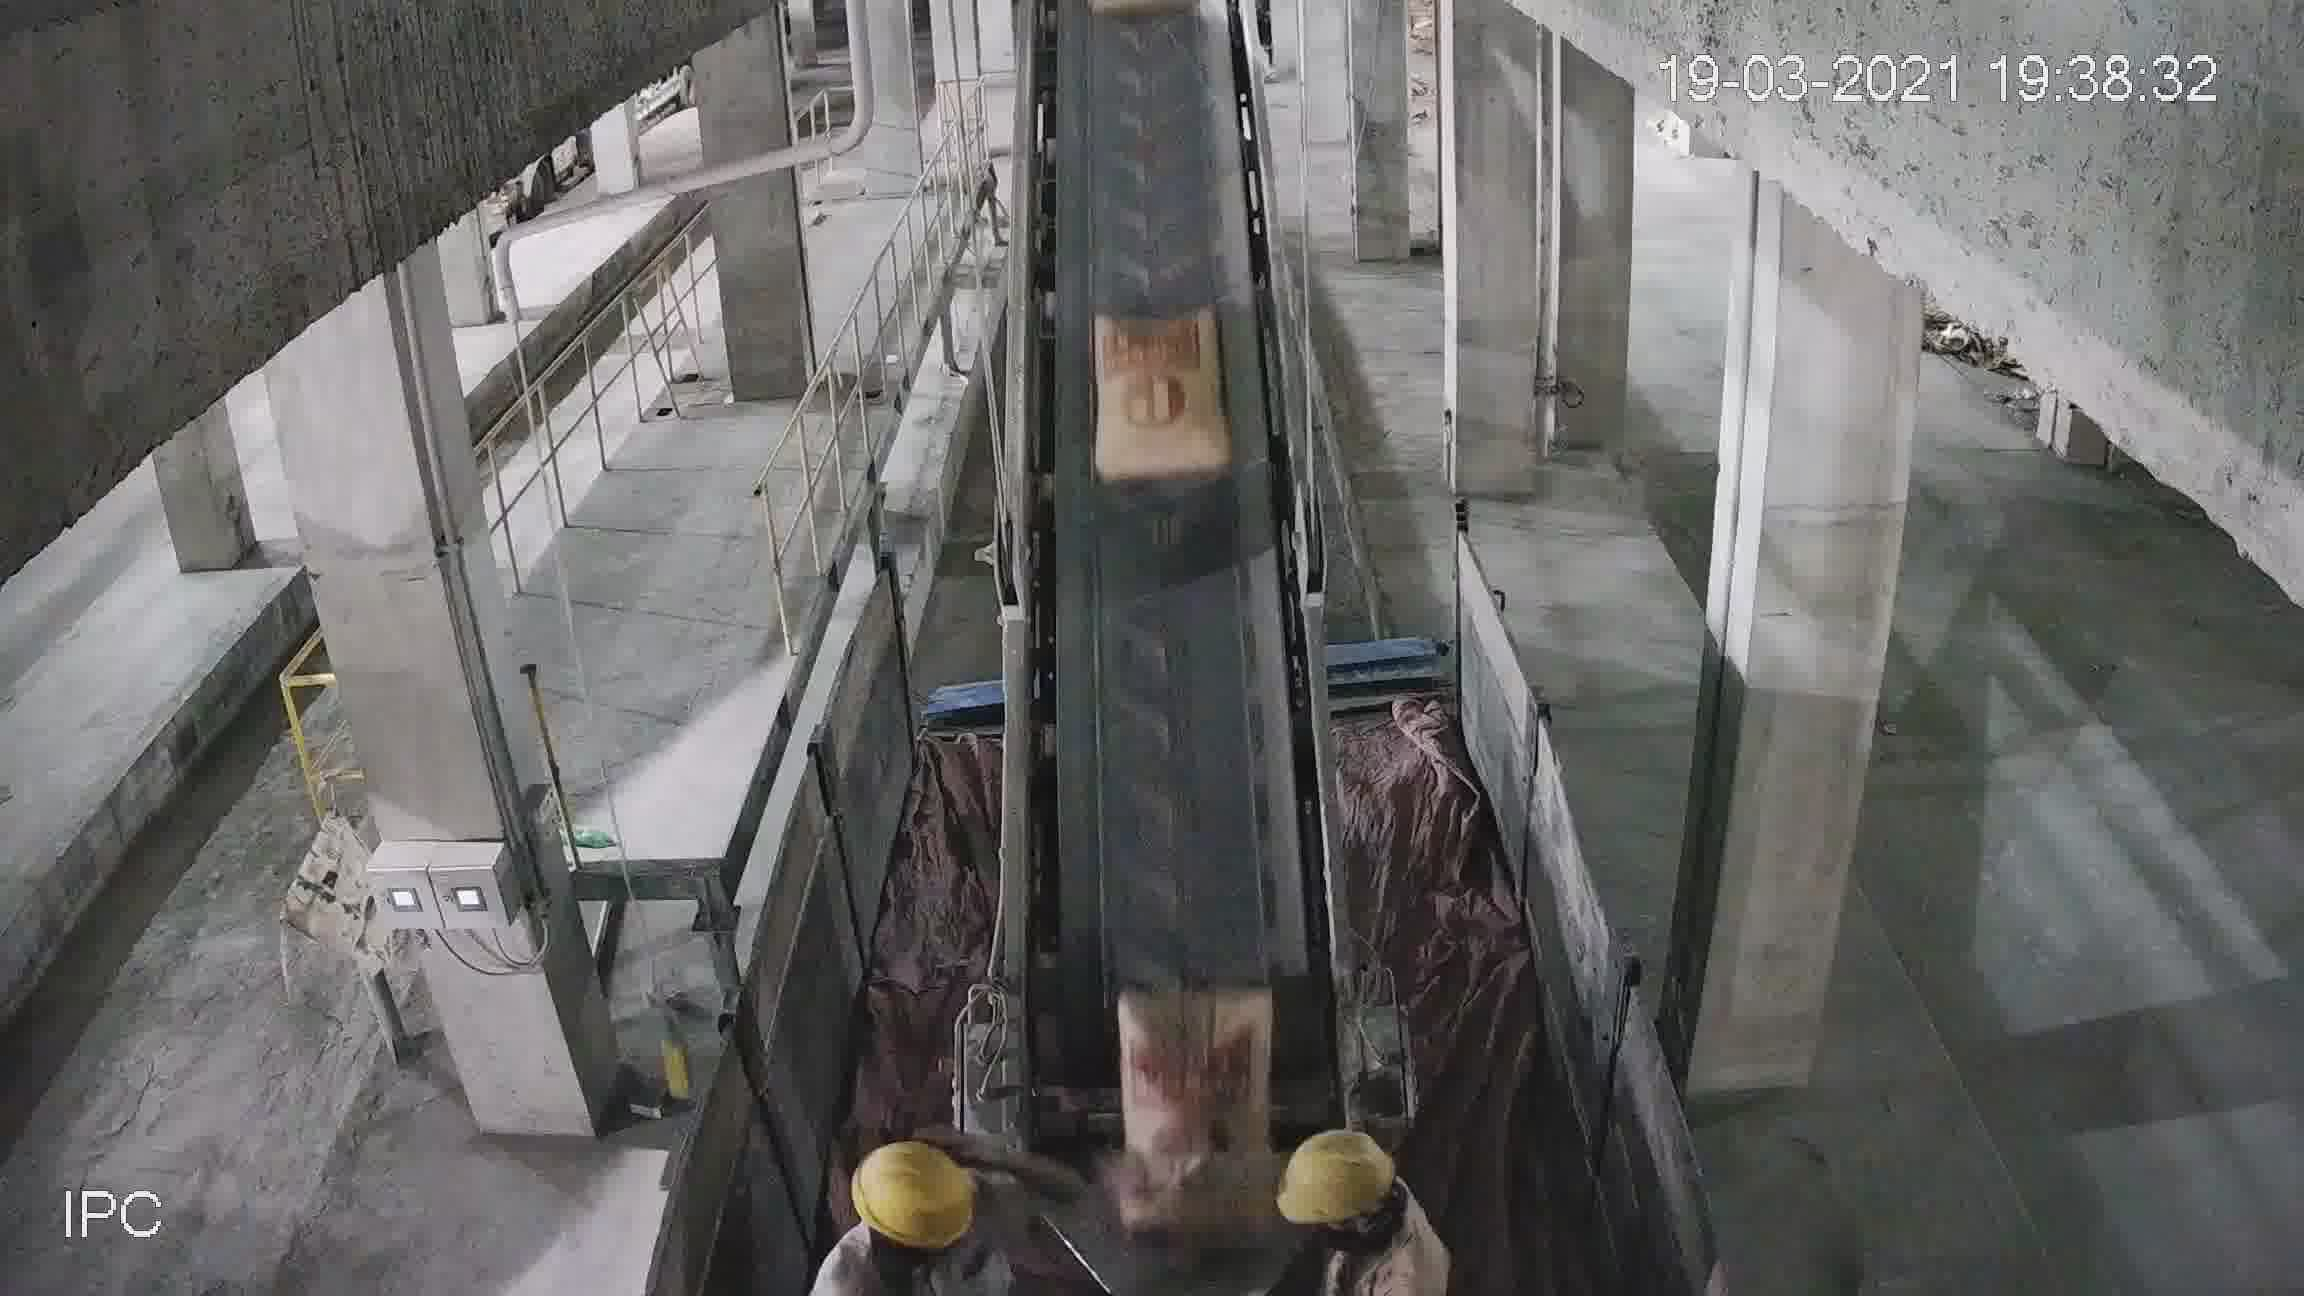bag: (1120, 989, 1275, 1179), (1092, 313, 1225, 483)
belt: (1005, 6, 1326, 1124)
